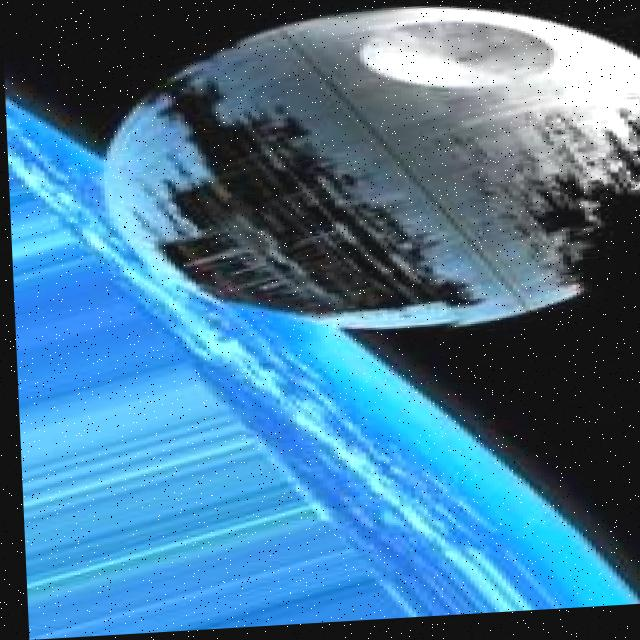deathstar: (99, 3, 640, 346)
